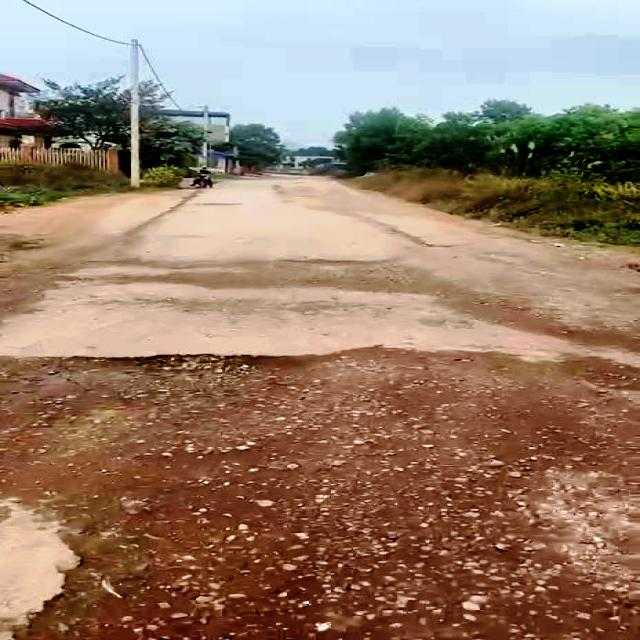pothole: (9, 499, 274, 640), (84, 348, 355, 398)
